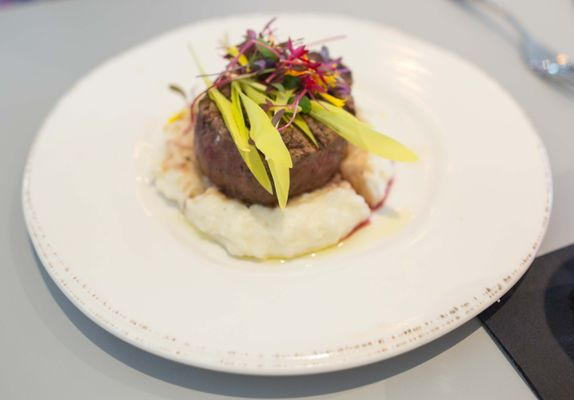curry: (4, 0, 570, 393)
